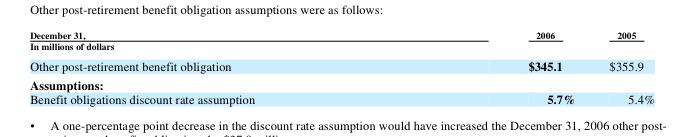table: (29, 29, 653, 105)
table column: (29, 29, 390, 105), (390, 29, 591, 105), (591, 29, 653, 105)
table column header: (29, 29, 653, 40)
table projected row header: (29, 75, 653, 91), (29, 40, 653, 55)
table row: (29, 55, 653, 75), (29, 75, 653, 91), (29, 40, 653, 55), (29, 91, 653, 105), (29, 29, 653, 40)
